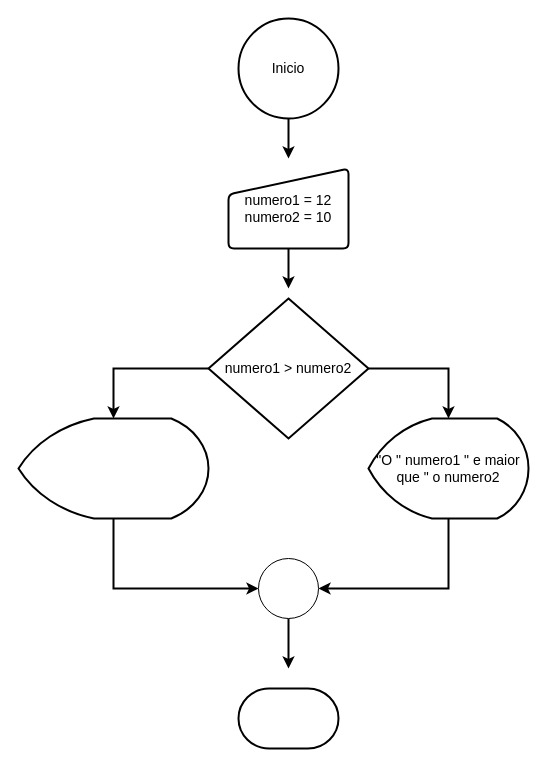
This 546x766 diagram has some shape labels left out. The shapes that lost their labels are listed below. From the top down, each one's box as (x1, y1, x2, y2) in pixels, then its label:
(17, 417, 209, 519): "O " numero2 " e menor que " o numero1
(237, 687, 339, 749): Fim
